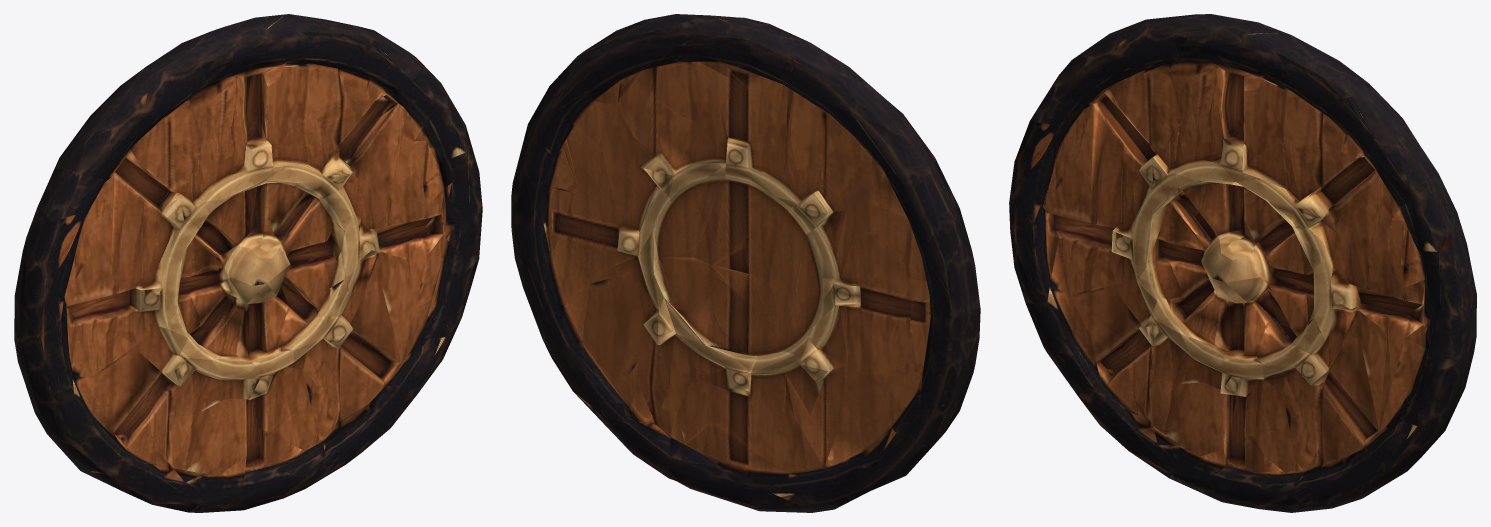
Rendered from marble-wheel.glb.
3 views of the same model, side by side, from view 1: azimuth 30°, elevation 25°; view 2: azimuth 150°, elevation 25°; view 3: azimuth 330°, elevation 25° (orthographic).
Parts seen in each view (by area): view 1: marble-wheel; view 2: marble-wheel; view 3: marble-wheel.
Part boxes in pixels (x1,y1,x2,y2): marble-wheel: (14,14,482,512); marble-wheel: (511,14,980,512); marble-wheel: (1009,14,1476,512).
Size of the model in its own units: 1.9 by 1.9 by 0.2184.
Materials: 1 (1 with a texture image).
